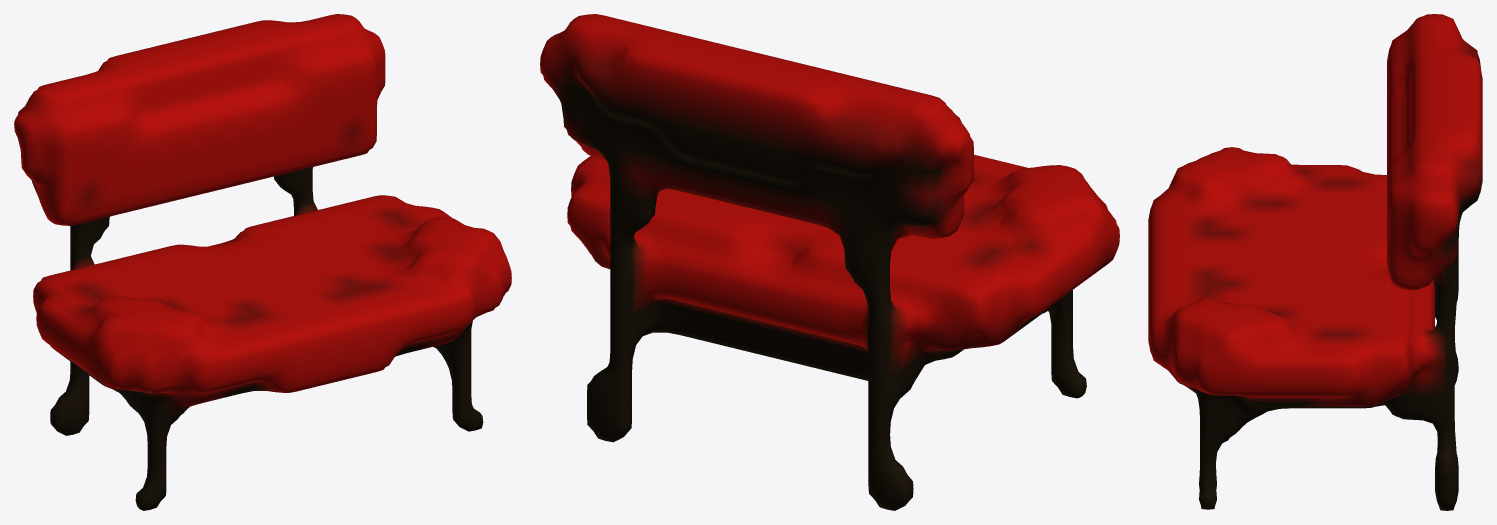
Rendered from SheenChair_256B_vox.glb.
The picture shows the model from 3 angles, left to right: view 1: azimuth 30°, elevation 25°; view 2: azimuth 150°, elevation 25°; view 3: azimuth 270°, elevation 25°; orthographic projection. The views are drawn at different scales.
Parts seen in each view (by area): view 1: shapehash-vox; view 2: shapehash-vox; view 3: shapehash-vox.
Boxes of the visible parts, box(x1,y1,x2,y2) form: shapehash-vox: box(14, 14, 511, 510); shapehash-vox: box(540, 14, 1119, 510); shapehash-vox: box(1148, 14, 1482, 510).
Bounding box in the file's own units: 2 × 1.67 × 1.41.
